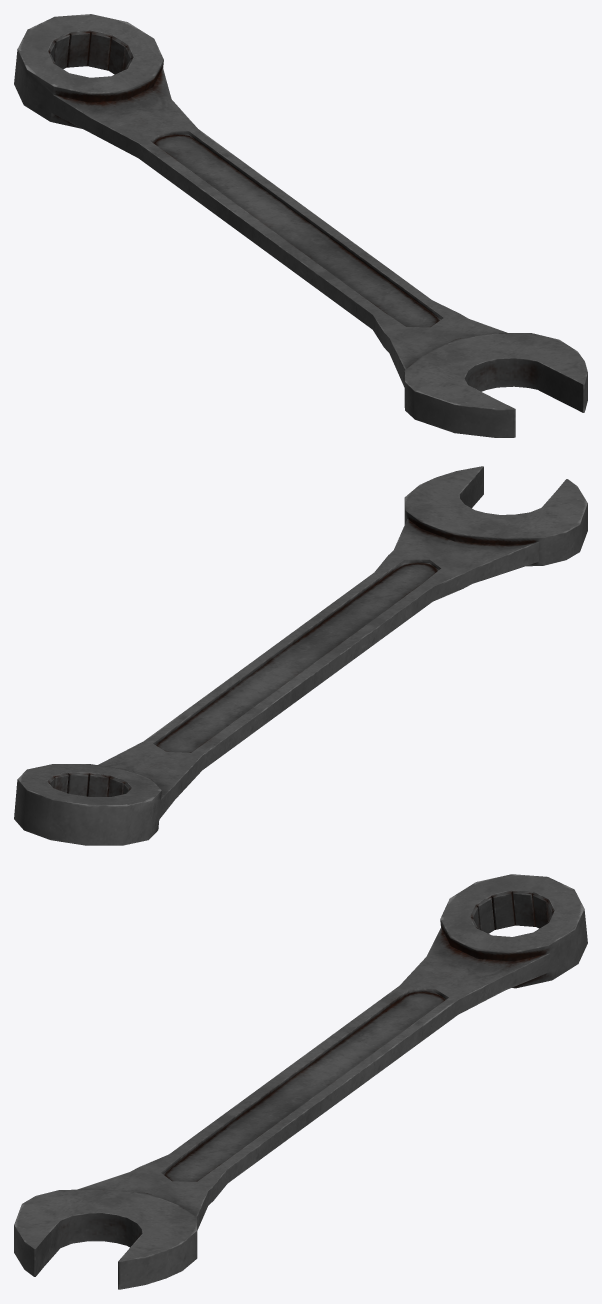
The model's file is cole.glb.
The picture shows the model from 3 angles, top to bottom: view 1: azimuth 30°, elevation 25°; view 2: azimuth 150°, elevation 25°; view 3: azimuth 330°, elevation 25°; orthographic projection.
Visible parts, largest first — view 1: Wrench; view 2: Wrench; view 3: Wrench.
Boxes of the visible parts, bbox=[...] form: Wrench: bbox=[14, 14, 587, 437]; Wrench: bbox=[14, 466, 587, 845]; Wrench: bbox=[14, 874, 587, 1289].
Bounding box in the file's own units: 0.7511 × 0.2647 × 3.94.
Materials: 1 (1 with a texture image).
